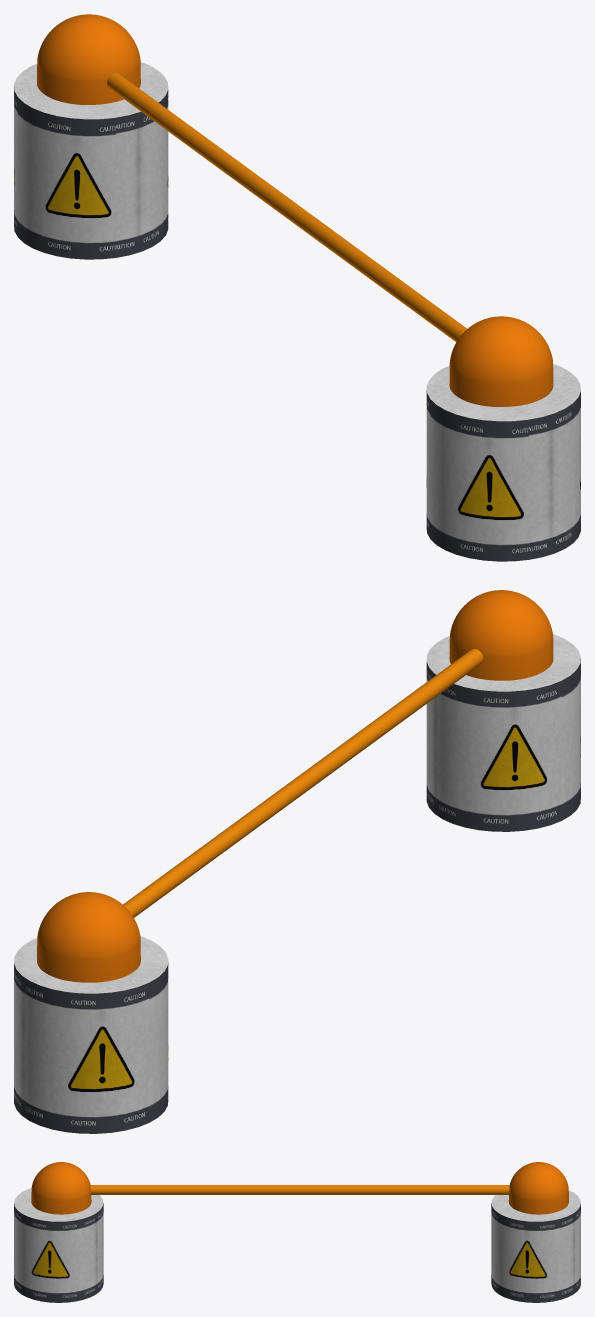
File: Barrier .fbx
The picture shows the model from 3 angles, top to bottom: view 1: azimuth 30°, elevation 25°; view 2: azimuth 150°, elevation 25°; view 3: azimuth 270°, elevation 25°; orthographic projection. The views are drawn at different scales.
Parts seen in each view (by area): view 1: Cylinder.002, Cylinder, Icosphere.001, Cylinder.001, Icosphere; view 2: Cylinder, Cylinder.002, Icosphere, Cylinder.001, Icosphere.001; view 3: Cylinder.002, Cylinder, Cylinder.001, Icosphere.001, Icosphere.
Boxes of the visible parts, x1,y1,x2,y2 form: Cylinder.002: (426,363,580,561); Cylinder: (14,62,168,259); Icosphere.001: (449,316,553,406); Cylinder.001: (107,73,466,342); Icosphere: (37,14,140,104); Cylinder: (14,936,168,1133); Cylinder.002: (426,634,580,831); Icosphere: (37,892,140,982); Cylinder.001: (123,648,483,917); Icosphere.001: (449,590,553,680); Cylinder.002: (14,1188,103,1302); Cylinder: (491,1190,580,1302); Cylinder.001: (90,1185,509,1194); Icosphere.001: (31,1162,91,1214); Icosphere: (508,1162,568,1214).
Size of the model in its own units: 3550 by 5215 by 22479.
Materials: 4 (1 with a texture image).
